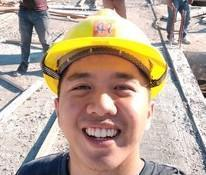helmet: (42, 8, 166, 96)
